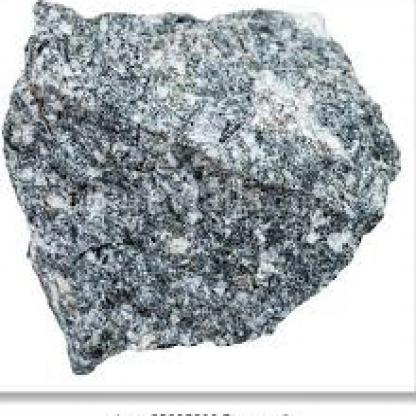Igneous_Diorite: (64, 39, 350, 309)
